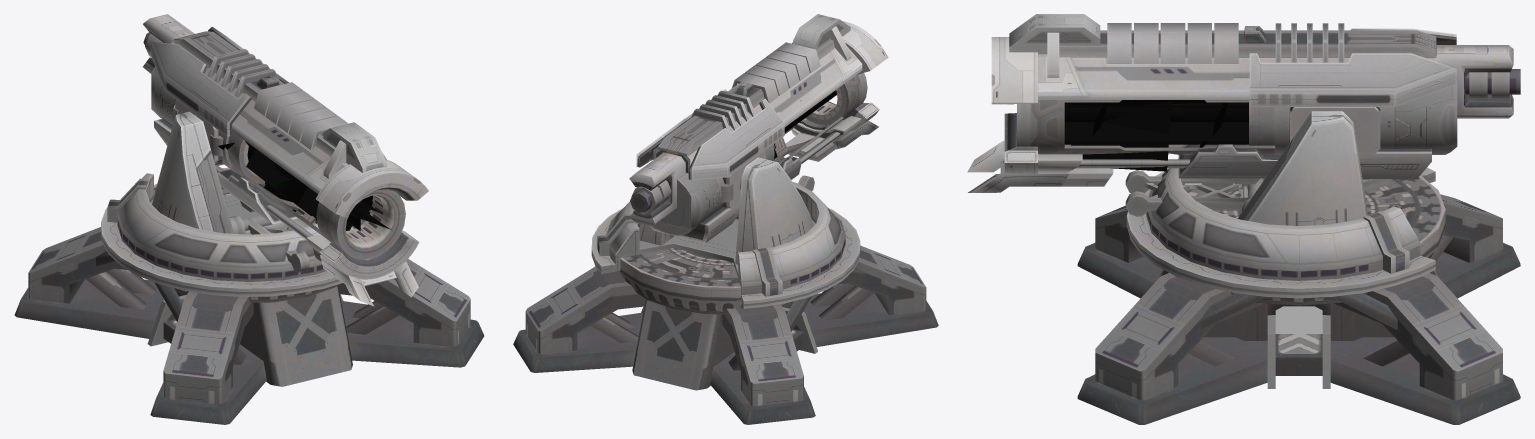
The model's file is turret-plasma.glb.
3 views of the same model, side by side, from view 1: azimuth 30°, elevation 25°; view 2: azimuth 150°, elevation 25°; view 3: azimuth 270°, elevation 25° (orthographic). The views are drawn at different scales.
Parts seen in each view (by area): view 1: turret-plasma-lod0-0, turret-plasma-lod0-4, turret-plasma-lod0-1, turret-plasma-eff, turret-plasma-lod0-3, turret-plasma-lod0-2; view 2: turret-plasma-lod0-0, turret-plasma-lod0-4, turret-plasma-lod0-1; view 3: turret-plasma-lod0-4, turret-plasma-lod0-0, turret-plasma-lod0-1, turret-plasma-eff, turret-plasma-lod0-3, turret-plasma-lod0-2, turret-plasma-black.
Boxes of the visible parts, x1,y1,x2,y2 form: turret-plasma-lod0-0: [14, 167, 484, 424]; turret-plasma-lod0-4: [143, 14, 428, 306]; turret-plasma-lod0-1: [101, 111, 371, 296]; turret-plasma-eff: [218, 141, 391, 231]; turret-plasma-lod0-3: [217, 169, 302, 224]; turret-plasma-lod0-2: [242, 215, 309, 272]; turret-plasma-lod0-0: [513, 245, 938, 424]; turret-plasma-lod0-4: [629, 14, 888, 242]; turret-plasma-lod0-1: [591, 157, 860, 308]; turret-plasma-lod0-4: [967, 14, 1520, 192]; turret-plasma-lod0-0: [1077, 175, 1520, 424]; turret-plasma-lod0-1: [1126, 111, 1435, 298]; turret-plasma-eff: [1064, 83, 1248, 171]; turret-plasma-lod0-3: [1178, 144, 1281, 184]; turret-plasma-lod0-2: [1125, 170, 1263, 216]; turret-plasma-black: [1275, 306, 1322, 333].
Bounding box in the file's own units: 11.26 × 8.95 × 14.07.
3 materials, 2 textured.
